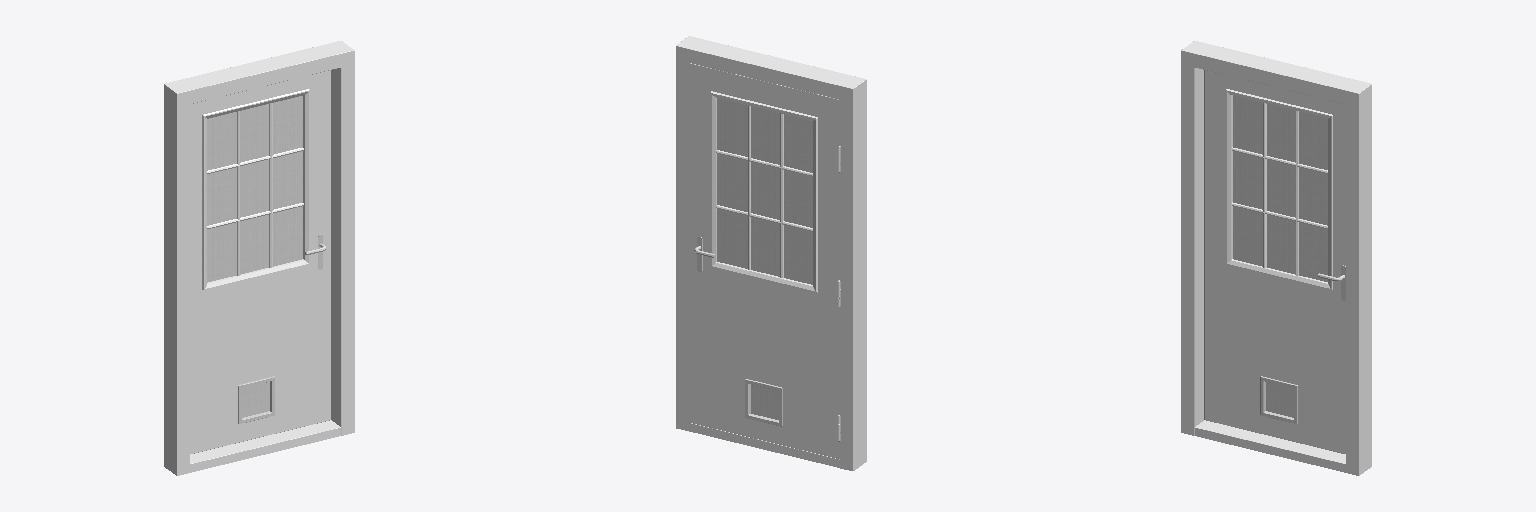
The picture shows the model from 3 angles: view 1: azimuth 30°, elevation 25°; view 2: azimuth 150°, elevation 25°; view 3: azimuth 330°, elevation 25°; orthographic projection.
Bounding box in the file's own units: 1.06 × 2.18 × 0.205.
4 materials, 1 textured.